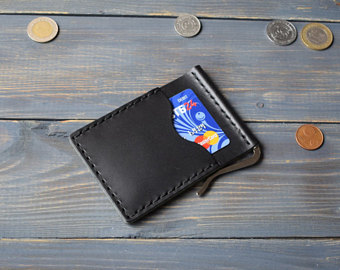monedero: (68, 64, 267, 228)
